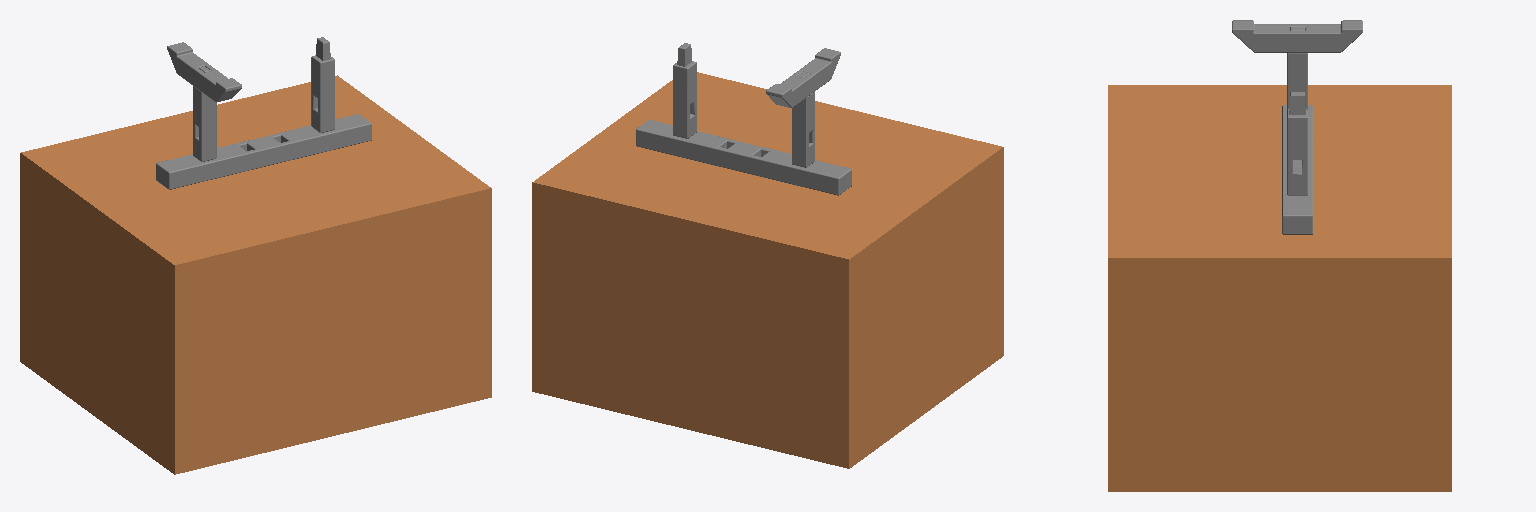
The robot description file, URDF, robot "table_beam_2x_1_scene_0048":
<?xml version="1.0"?>
<robot name="table_beam_2x_1_scene_0048">
  <link name="box">
    <visual>
      <material name="wood"><color rgba="0.82 0.56 0.35 1.0"/></material>
      <origin xyz="0 0 0"/>
      <geometry><box size="0.475 0.4 0.3"/></geometry>
    </visual>
    <collision>
      <origin xyz="0 0 0"/>
      <geometry><box size="0.475 0.4 0.3"/></geometry>
    </collision>
    <inertial>
      <mass value="500"/>
      <friction value="1.0"/>
      <inertia ixx="1000.0" ixy="0.0" ixz="0.0" iyy="1000.0" iyz="0.0" izz="1000.0"/>
    </inertial>
  </link>
  <link name="part_6_canonical">
    <visual>
      <origin xyz="0 0 0" rpy="0 0 0"/>
      <geometry><mesh filename="../../6/6_canonical.obj" scale="1 1 1"/></geometry>
      <material name="placed_0"><color rgba="0.6 0.6 0.6 1.0"/></material>
    </visual>
    <collision>
      <origin xyz="0 0 0" rpy="0 0 0"/>
      <geometry><mesh filename="../../6/6_canonical.obj" scale="1 1 1"/></geometry>
    </collision>
  </link>
  <joint name="part_6_canonical_joint" type="fixed">
    <parent link="box"/>
    <child link="part_6_canonical"/>
    <origin xyz="0.023881 0.020580 0.162666" rpy="0.000000 0.000000 0.000000"/>
  </joint>
  <link name="part_2_canonical">
    <visual>
      <origin xyz="0 0 0" rpy="0 0 0"/>
      <geometry><mesh filename="../../2/2_canonical.obj" scale="1 1 1"/></geometry>
      <material name="placed_1"><color rgba="0.6 0.6 0.6 1.0"/></material>
    </visual>
    <collision>
      <origin xyz="0 0 0" rpy="0 0 0"/>
      <geometry><mesh filename="../../2/2_canonical.obj" scale="1 1 1"/></geometry>
    </collision>
  </link>
  <joint name="part_2_canonical_joint" type="fixed">
    <parent link="box"/>
    <child link="part_2_canonical"/>
    <origin xyz="-0.065045 0.020580 0.225384" rpy="0.000000 -1.570796 0.000000"/>
  </joint>
  <link name="part_0_canonical">
    <visual>
      <origin xyz="0 0 0" rpy="0 0 0"/>
      <geometry><mesh filename="../../0/0_canonical.obj" scale="1 1 1"/></geometry>
      <material name="placed_2"><color rgba="0.6 0.6 0.6 1.0"/></material>
    </visual>
    <collision>
      <origin xyz="0 0 0" rpy="0 0 0"/>
      <geometry><mesh filename="../../0/0_canonical.obj" scale="1 1 1"/></geometry>
    </collision>
  </link>
  <joint name="part_0_canonical_joint" type="fixed">
    <parent link="box"/>
    <child link="part_0_canonical"/>
    <origin xyz="-0.065018 0.020580 0.292243" rpy="1.570796 0.000000 -1.570796"/>
  </joint>
  <link name="part_3_hull_0">
    <visual>
      <origin xyz="0 0 0" rpy="0 0 0"/>
      <geometry><mesh filename="../../3/coacd/decomp_0.obj" scale="1 1 1"/></geometry>
      <material name="placed_3"><color rgba="0.6 0.6 0.6 1.0"/></material>
    </visual>
    <collision>
      <origin xyz="0 0 0" rpy="0 0 0"/>
      <geometry><mesh filename="../../3/coacd/decomp_0.obj" scale="1 1 1"/></geometry>
    </collision>
  </link>
  <joint name="part_3_hull_0_joint" type="fixed">
    <parent link="box"/>
    <child link="part_3_hull_0"/>
    <origin xyz="0.112808 0.020580 0.225384" rpy="0.000000 -1.570796 0.000000"/>
  </joint>
  <link name="part_3_hull_1">
    <visual>
      <origin xyz="0 0 0" rpy="0 0 0"/>
      <geometry><mesh filename="../../3/coacd/decomp_1.obj" scale="1 1 1"/></geometry>
      <material name="placed_4"><color rgba="0.6 0.6 0.6 1.0"/></material>
    </visual>
    <collision>
      <origin xyz="0 0 0" rpy="0 0 0"/>
      <geometry><mesh filename="../../3/coacd/decomp_1.obj" scale="1 1 1"/></geometry>
    </collision>
  </link>
  <joint name="part_3_hull_1_joint" type="fixed">
    <parent link="box"/>
    <child link="part_3_hull_1"/>
    <origin xyz="0.112808 0.020580 0.225384" rpy="0.000000 -1.570796 0.000000"/>
  </joint>
  <link name="part_3_hull_2">
    <visual>
      <origin xyz="0 0 0" rpy="0 0 0"/>
      <geometry><mesh filename="../../3/coacd/decomp_10.obj" scale="1 1 1"/></geometry>
      <material name="placed_5"><color rgba="0.6 0.6 0.6 1.0"/></material>
    </visual>
    <collision>
      <origin xyz="0 0 0" rpy="0 0 0"/>
      <geometry><mesh filename="../../3/coacd/decomp_10.obj" scale="1 1 1"/></geometry>
    </collision>
  </link>
  <joint name="part_3_hull_2_joint" type="fixed">
    <parent link="box"/>
    <child link="part_3_hull_2"/>
    <origin xyz="0.112808 0.020580 0.225384" rpy="0.000000 -1.570796 0.000000"/>
  </joint>
  <link name="part_3_hull_3">
    <visual>
      <origin xyz="0 0 0" rpy="0 0 0"/>
      <geometry><mesh filename="../../3/coacd/decomp_11.obj" scale="1 1 1"/></geometry>
      <material name="placed_6"><color rgba="0.6 0.6 0.6 1.0"/></material>
    </visual>
    <collision>
      <origin xyz="0 0 0" rpy="0 0 0"/>
      <geometry><mesh filename="../../3/coacd/decomp_11.obj" scale="1 1 1"/></geometry>
    </collision>
  </link>
  <joint name="part_3_hull_3_joint" type="fixed">
    <parent link="box"/>
    <child link="part_3_hull_3"/>
    <origin xyz="0.112808 0.020580 0.225384" rpy="0.000000 -1.570796 0.000000"/>
  </joint>
  <link name="part_3_hull_4">
    <visual>
      <origin xyz="0 0 0" rpy="0 0 0"/>
      <geometry><mesh filename="../../3/coacd/decomp_12.obj" scale="1 1 1"/></geometry>
      <material name="placed_7"><color rgba="0.6 0.6 0.6 1.0"/></material>
    </visual>
    <collision>
      <origin xyz="0 0 0" rpy="0 0 0"/>
      <geometry><mesh filename="../../3/coacd/decomp_12.obj" scale="1 1 1"/></geometry>
    </collision>
  </link>
  <joint name="part_3_hull_4_joint" type="fixed">
    <parent link="box"/>
    <child link="part_3_hull_4"/>
    <origin xyz="0.112808 0.020580 0.225384" rpy="0.000000 -1.570796 0.000000"/>
  </joint>
  <link name="part_3_hull_5">
    <visual>
      <origin xyz="0 0 0" rpy="0 0 0"/>
      <geometry><mesh filename="../../3/coacd/decomp_2.obj" scale="1 1 1"/></geometry>
      <material name="placed_8"><color rgba="0.6 0.6 0.6 1.0"/></material>
    </visual>
    <collision>
      <origin xyz="0 0 0" rpy="0 0 0"/>
      <geometry><mesh filename="../../3/coacd/decomp_2.obj" scale="1 1 1"/></geometry>
    </collision>
  </link>
  <joint name="part_3_hull_5_joint" type="fixed">
    <parent link="box"/>
    <child link="part_3_hull_5"/>
    <origin xyz="0.112808 0.020580 0.225384" rpy="0.000000 -1.570796 0.000000"/>
  </joint>
  <link name="part_3_hull_6">
    <visual>
      <origin xyz="0 0 0" rpy="0 0 0"/>
      <geometry><mesh filename="../../3/coacd/decomp_3.obj" scale="1 1 1"/></geometry>
      <material name="placed_9"><color rgba="0.6 0.6 0.6 1.0"/></material>
    </visual>
    <collision>
      <origin xyz="0 0 0" rpy="0 0 0"/>
      <geometry><mesh filename="../../3/coacd/decomp_3.obj" scale="1 1 1"/></geometry>
    </collision>
  </link>
  <joint name="part_3_hull_6_joint" type="fixed">
    <parent link="box"/>
    <child link="part_3_hull_6"/>
    <origin xyz="0.112808 0.020580 0.225384" rpy="0.000000 -1.570796 0.000000"/>
  </joint>
  <link name="part_3_hull_7">
    <visual>
      <origin xyz="0 0 0" rpy="0 0 0"/>
      <geometry><mesh filename="../../3/coacd/decomp_4.obj" scale="1 1 1"/></geometry>
      <material name="placed_10"><color rgba="0.6 0.6 0.6 1.0"/></material>
    </visual>
    <collision>
      <origin xyz="0 0 0" rpy="0 0 0"/>
      <geometry><mesh filename="../../3/coacd/decomp_4.obj" scale="1 1 1"/></geometry>
    </collision>
  </link>
  <joint name="part_3_hull_7_joint" type="fixed">
    <parent link="box"/>
    <child link="part_3_hull_7"/>
    <origin xyz="0.112808 0.020580 0.225384" rpy="0.000000 -1.570796 0.000000"/>
  </joint>
  <link name="part_3_hull_8">
    <visual>
      <origin xyz="0 0 0" rpy="0 0 0"/>
      <geometry><mesh filename="../../3/coacd/decomp_5.obj" scale="1 1 1"/></geometry>
      <material name="placed_11"><color rgba="0.6 0.6 0.6 1.0"/></material>
    </visual>
    <collision>
      <origin xyz="0 0 0" rpy="0 0 0"/>
      <geometry><mesh filename="../../3/coacd/decomp_5.obj" scale="1 1 1"/></geometry>
    </collision>
  </link>
  <joint name="part_3_hull_8_joint" type="fixed">
    <parent link="box"/>
    <child link="part_3_hull_8"/>
    <origin xyz="0.112808 0.020580 0.225384" rpy="0.000000 -1.570796 0.000000"/>
  </joint>
  <link name="part_3_hull_9">
    <visual>
      <origin xyz="0 0 0" rpy="0 0 0"/>
      <geometry><mesh filename="../../3/coacd/decomp_6.obj" scale="1 1 1"/></geometry>
      <material name="placed_12"><color rgba="0.6 0.6 0.6 1.0"/></material>
    </visual>
    <collision>
      <origin xyz="0 0 0" rpy="0 0 0"/>
      <geometry><mesh filename="../../3/coacd/decomp_6.obj" scale="1 1 1"/></geometry>
    </collision>
  </link>
  <joint name="part_3_hull_9_joint" type="fixed">
    <parent link="box"/>
    <child link="part_3_hull_9"/>
    <origin xyz="0.112808 0.020580 0.225384" rpy="0.000000 -1.570796 0.000000"/>
  </joint>
  <link name="part_3_hull_10">
    <visual>
      <origin xyz="0 0 0" rpy="0 0 0"/>
      <geometry><mesh filename="../../3/coacd/decomp_7.obj" scale="1 1 1"/></geometry>
      <material name="placed_13"><color rgba="0.6 0.6 0.6 1.0"/></material>
    </visual>
    <collision>
      <origin xyz="0 0 0" rpy="0 0 0"/>
      <geometry><mesh filename="../../3/coacd/decomp_7.obj" scale="1 1 1"/></geometry>
    </collision>
  </link>
  <joint name="part_3_hull_10_joint" type="fixed">
    <parent link="box"/>
    <child link="part_3_hull_10"/>
    <origin xyz="0.112808 0.020580 0.225384" rpy="0.000000 -1.570796 0.000000"/>
  </joint>
  <link name="part_3_hull_11">
    <visual>
      <origin xyz="0 0 0" rpy="0 0 0"/>
      <geometry><mesh filename="../../3/coacd/decomp_8.obj" scale="1 1 1"/></geometry>
      <material name="placed_14"><color rgba="0.6 0.6 0.6 1.0"/></material>
    </visual>
    <collision>
      <origin xyz="0 0 0" rpy="0 0 0"/>
      <geometry><mesh filename="../../3/coacd/decomp_8.obj" scale="1 1 1"/></geometry>
    </collision>
  </link>
  <joint name="part_3_hull_11_joint" type="fixed">
    <parent link="box"/>
    <child link="part_3_hull_11"/>
    <origin xyz="0.112808 0.020580 0.225384" rpy="0.000000 -1.570796 0.000000"/>
  </joint>
  <link name="part_3_hull_12">
    <visual>
      <origin xyz="0 0 0" rpy="0 0 0"/>
      <geometry><mesh filename="../../3/coacd/decomp_9.obj" scale="1 1 1"/></geometry>
      <material name="placed_15"><color rgba="0.6 0.6 0.6 1.0"/></material>
    </visual>
    <collision>
      <origin xyz="0 0 0" rpy="0 0 0"/>
      <geometry><mesh filename="../../3/coacd/decomp_9.obj" scale="1 1 1"/></geometry>
    </collision>
  </link>
  <joint name="part_3_hull_12_joint" type="fixed">
    <parent link="box"/>
    <child link="part_3_hull_12"/>
    <origin xyz="0.112808 0.020580 0.225384" rpy="0.000000 -1.570796 0.000000"/>
  </joint>
</robot>

--- Render facts (derived) ---
3 views of the same robot in one strip: view 1: azimuth 30°, elevation 25°; view 2: azimuth 150°, elevation 25°; view 3: azimuth 270°, elevation 25° (orthographic).
Model table_beam_2x_1_scene_0048 with 17 links and 16 joints (16 fixed), rooted at box, posed every joint at zero.
Links seen in each view (by area): view 1: box, part_6_canonical, part_0_canonical, part_2_canonical, part_3_hull_7; view 2: box, part_6_canonical, part_0_canonical, part_2_canonical, part_3_hull_11; view 3: box, part_0_canonical, part_6_canonical, part_2_canonical, part_3_hull_0.
Link boxes in pixels (<box>): box: <box>20,75,491,474</box>; part_6_canonical: <box>156,114,371,189</box>; part_0_canonical: <box>167,42,241,102</box>; part_2_canonical: <box>193,66,216,161</box>; part_3_hull_7: <box>324,59,331,131</box>; box: <box>532,72,1003,468</box>; part_6_canonical: <box>636,120,851,195</box>; part_0_canonical: <box>766,48,840,107</box>; part_2_canonical: <box>792,72,814,167</box>; part_3_hull_11: <box>676,65,683,137</box>; box: <box>1108,85,1451,491</box>; part_0_canonical: <box>1232,20,1362,52</box>; part_6_canonical: <box>1282,105,1312,234</box>; part_2_canonical: <box>1287,27,1307,109</box>; part_3_hull_0: <box>1287,115,1307,159</box>.
Bounding box of the posed robot: 0.475 × 0.4 × 0.4575 m (x, y, z).
Meshes: 16 distinct files referenced, 16 mesh visuals loaded (16 OBJ).
